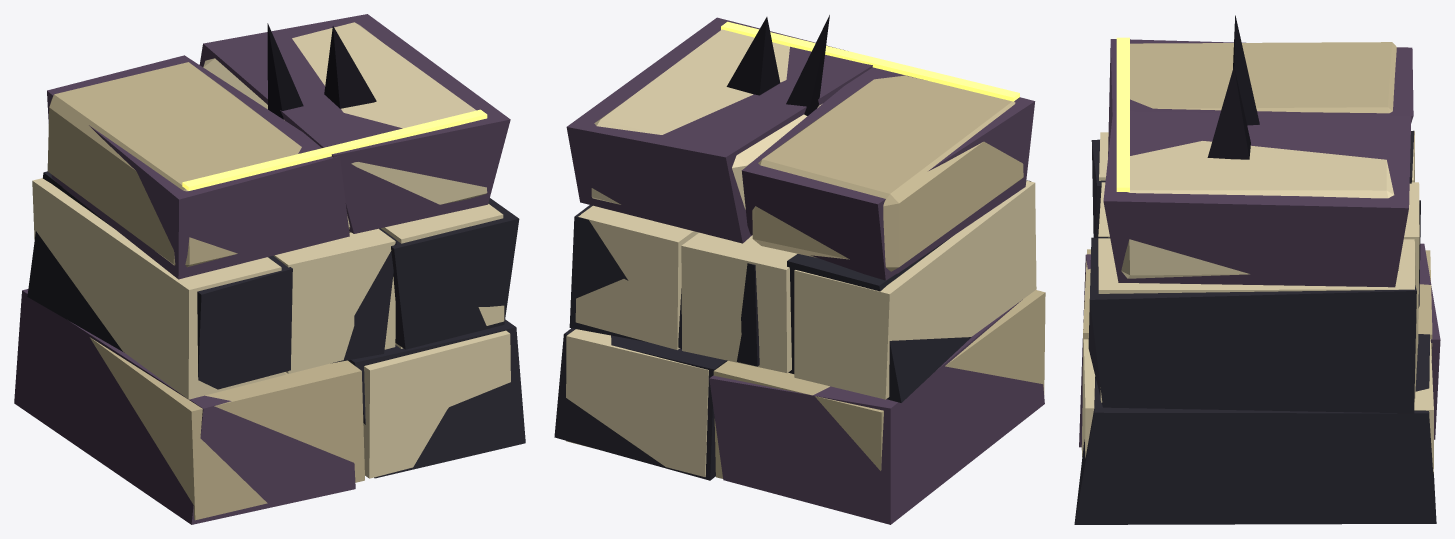
The model's file is wall_straight.glb.
The picture shows the model from 3 angles, left to right: view 1: azimuth 30°, elevation 25°; view 2: azimuth 150°, elevation 25°; view 3: azimuth 270°, elevation 25°; orthographic projection. The views are drawn at different scales.
Parts seen in each view (by area): view 1: wall_straight_corrupted, wall_straight_restored; view 2: wall_straight_restored, wall_straight_corrupted; view 3: wall_straight_corrupted, wall_straight_restored.
Boxes of the visible parts, box(x1,y1,x2,y2) form: wall_straight_corrupted: box(14, 14, 525, 524); wall_straight_restored: box(32, 22, 510, 520); wall_straight_restored: box(566, 21, 1045, 478); wall_straight_corrupted: box(554, 15, 1044, 524); wall_straight_corrupted: box(1074, 15, 1440, 524); wall_straight_restored: box(1081, 37, 1433, 473).
Bounding box in the file's own units: 1.05 × 1.22 × 0.9485.
